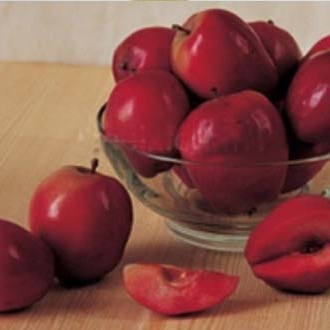apple: (176, 92, 291, 210), (24, 162, 134, 281), (172, 6, 282, 105), (103, 73, 194, 167), (252, 188, 330, 293), (109, 25, 196, 96), (1, 217, 56, 312), (278, 49, 330, 144), (239, 23, 303, 91)
